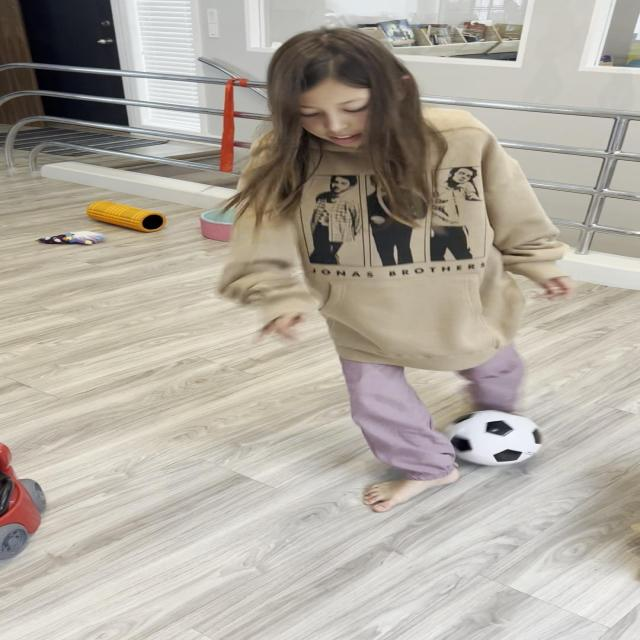Soccer Ball: (444, 410, 547, 467)
